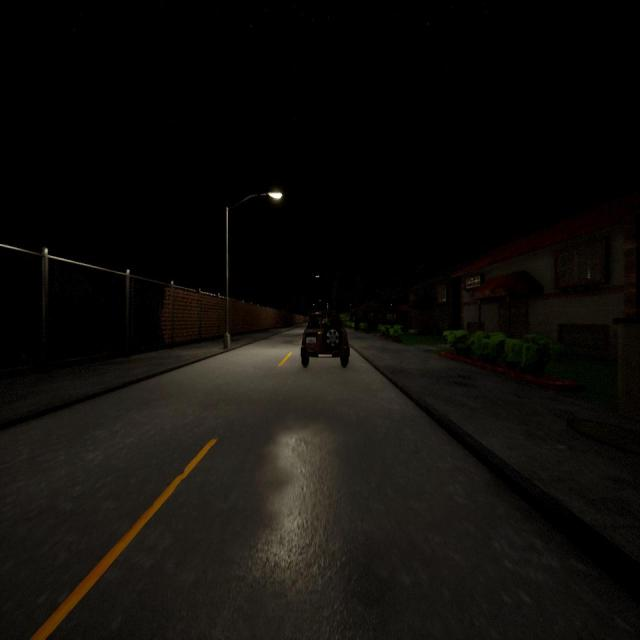Vehicle: (301, 309, 349, 366)
